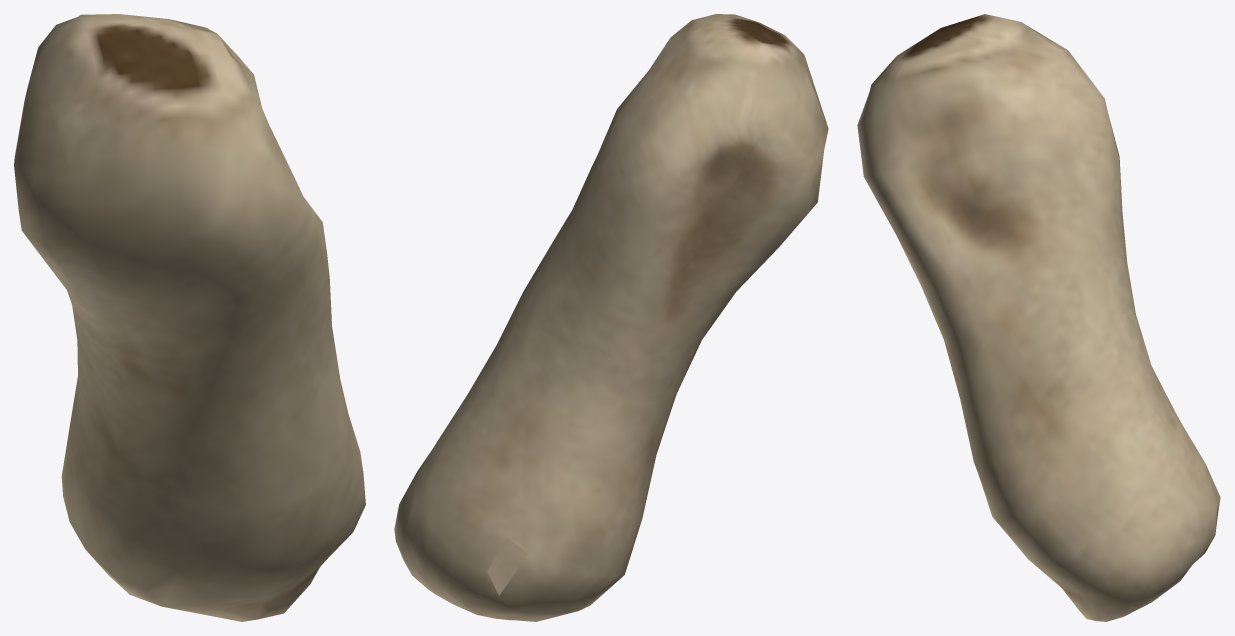
File: Caudal_Vertebrae6.glb
The picture shows the model from 3 angles, left to right: view 1: azimuth 30°, elevation 25°; view 2: azimuth 150°, elevation 25°; view 3: azimuth 270°, elevation 25°; orthographic projection. The views are drawn at different scales.
Visible parts, largest first — view 1: Caudal_Vertebrae_07; view 2: Caudal_Vertebrae_07; view 3: Caudal_Vertebrae_07.
Part boxes in pixels (x1,y1,x2,y2): Caudal_Vertebrae_07: (14, 14, 365, 621); Caudal_Vertebrae_07: (394, 14, 828, 621); Caudal_Vertebrae_07: (857, 14, 1220, 621).
Size of the model in its own units: 0.0211 by 0.0344 by 0.0219.
Materials: 1 (1 with a texture image).
